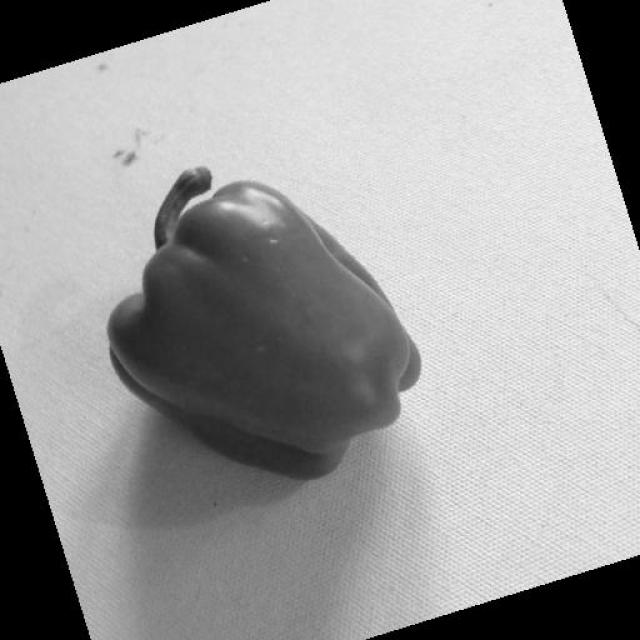Fresh_Capsicum: (102, 99, 449, 461)
